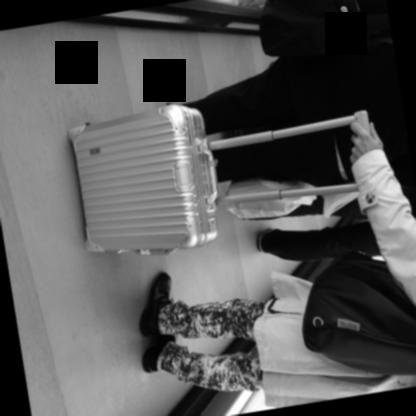backpack: (258, 0, 357, 61)
handbag: (301, 251, 416, 376)
suitcase: (65, 105, 369, 254)
